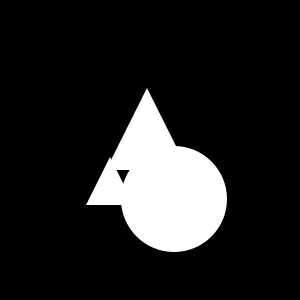rectangle: (121, 146, 227, 252)
triangle: (106, 88, 188, 170), (86, 157, 134, 205)
